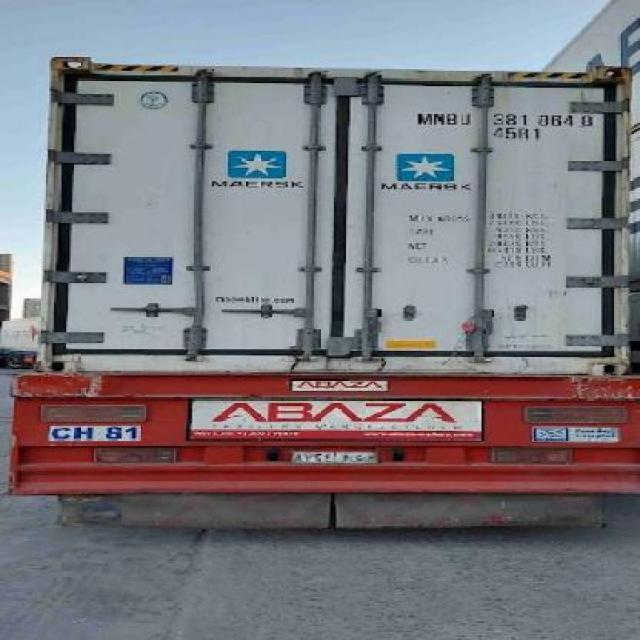ISO: (491, 126, 543, 143)
container_number: (410, 106, 594, 126)
